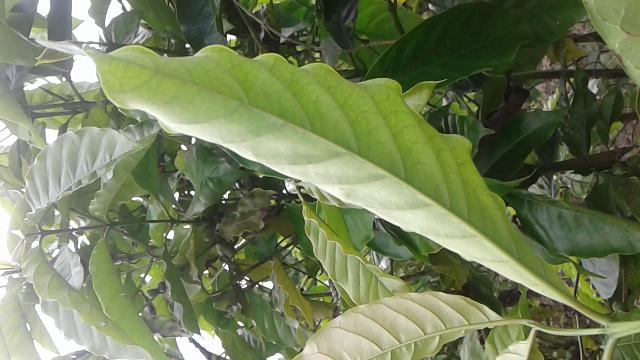healthy: (89, 44, 586, 314)
